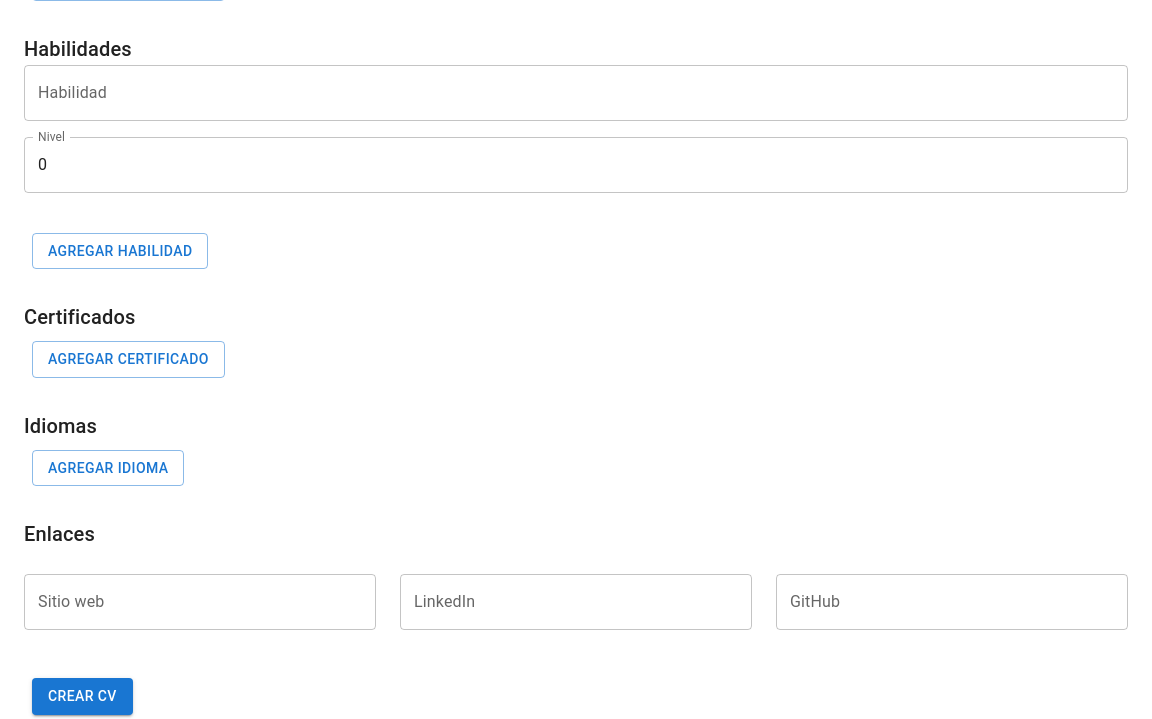
CVForm › adds certificate fields
This screenshot has width=1152, height=719.
(page scrolled)
Click the button "Agregar Certificado": [128, 360] box [32,341,225,378]
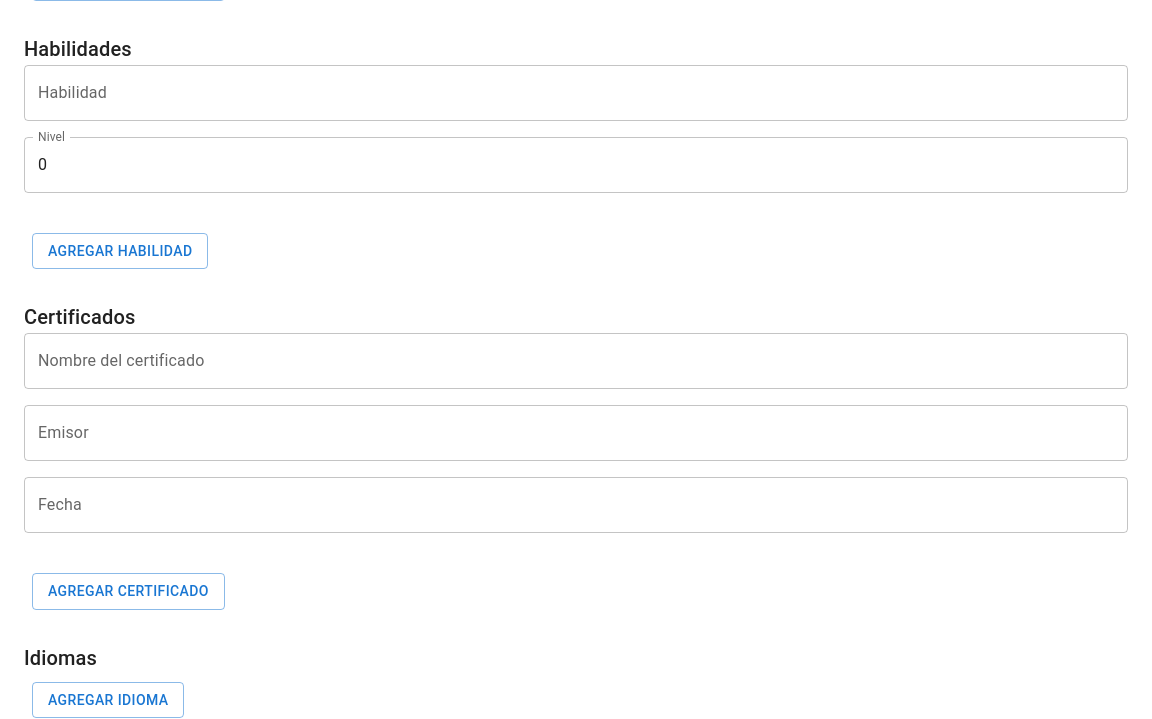
Result: the number of fields labelled "Nombre del certificado" is 1 at [24,333,1128,389]
